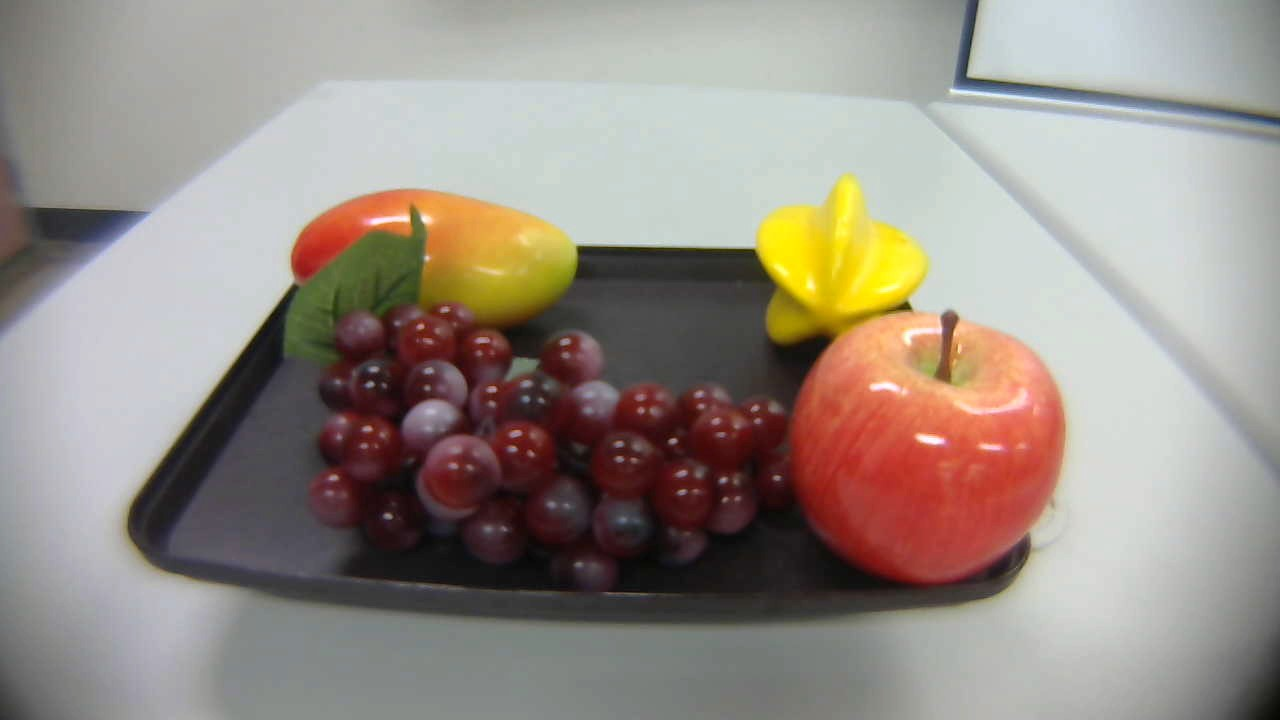grape: (267, 213, 803, 598)
red apple: (778, 303, 1070, 584)
red mango: (278, 184, 605, 336)
star fruit: (752, 173, 938, 371)
